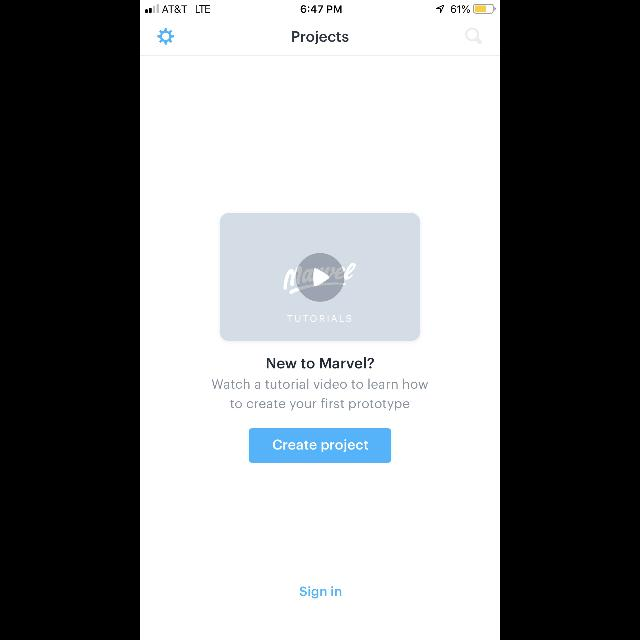icon: (296, 254, 344, 302), (464, 28, 482, 44), (158, 29, 174, 45)
text: (212, 379, 428, 411), (266, 358, 374, 368), (292, 31, 348, 45), (300, 586, 342, 598), (287, 316, 351, 322)
textbutton: (249, 428, 391, 464)
uppertaskbar: (140, 0, 500, 14)
